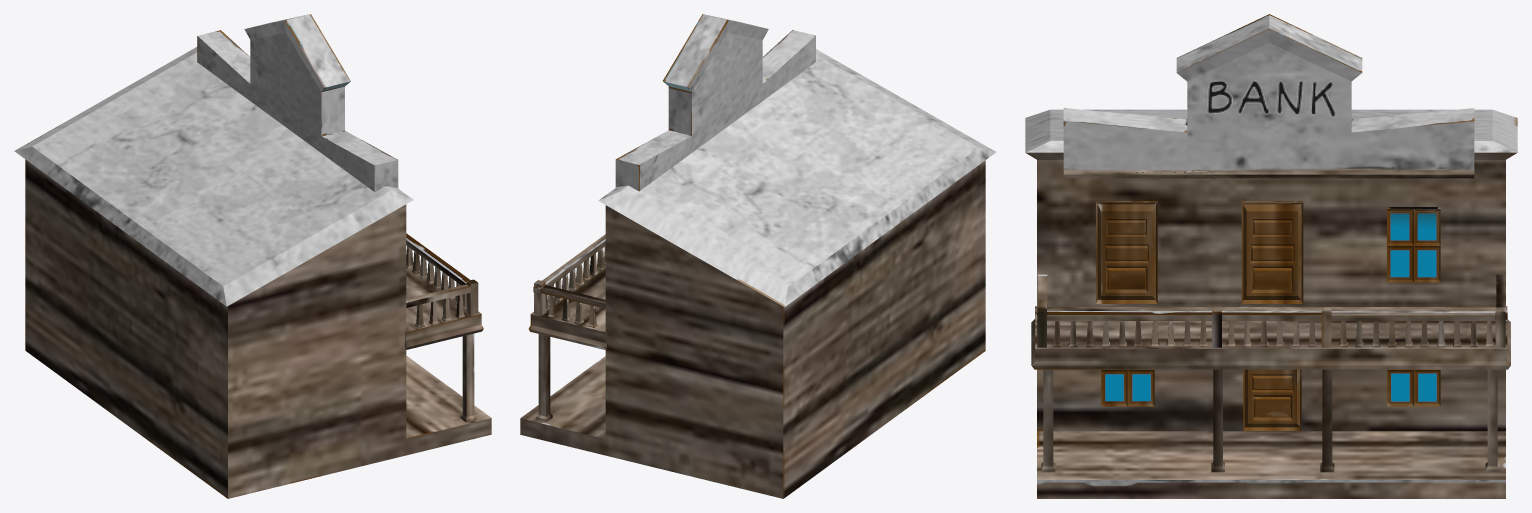
File: bank.fbx
3 renders of one model, left to right at view 1: azimuth 30°, elevation 25°; view 2: azimuth 150°, elevation 25°; view 3: azimuth 270°, elevation 25°, orthographic. The views are drawn at different scales.
Visible parts, largest first — view 1: bank; view 2: bank; view 3: bank.
Boxes of the visible parts, <box> form: bank: <box>14,14,491,498</box>; bank: <box>520,14,996,498</box>; bank: <box>1025,14,1517,498</box>.
Size of the model in its own units: 462 by 600 by 630.
1 material, 1 textured.
